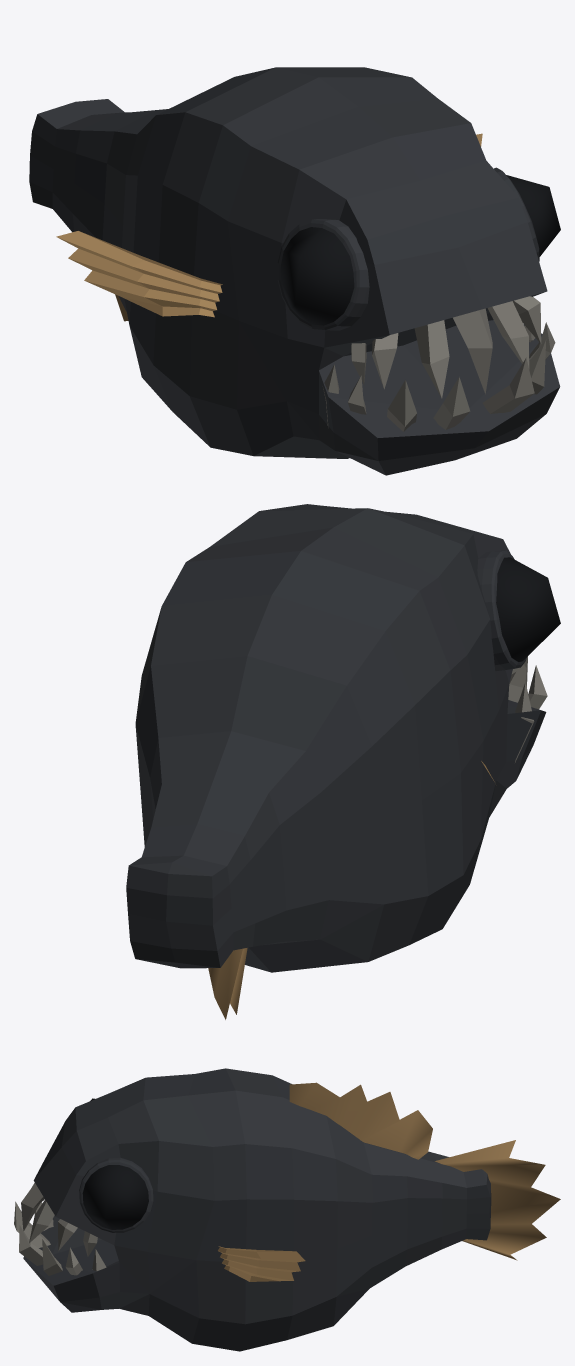
The model's file is cc0-piranha-lod1.glb.
3 views of the same model, one above another, from view 1: azimuth 30°, elevation 25°; view 2: azimuth 150°, elevation 25°; view 3: azimuth 270°, elevation 25° (orthographic). The views are drawn at different scales.
Parts seen in each view (by area): view 1: part_0; view 2: part_0; view 3: part_0.
Part boxes in pixels (x1,y1,x2,y2): part_0: (29, 67, 560, 475); part_0: (126, 504, 560, 1019); part_0: (14, 1068, 560, 1351).
Bounding box in the file's own units: 3.12 × 2.4 × 4.74.
